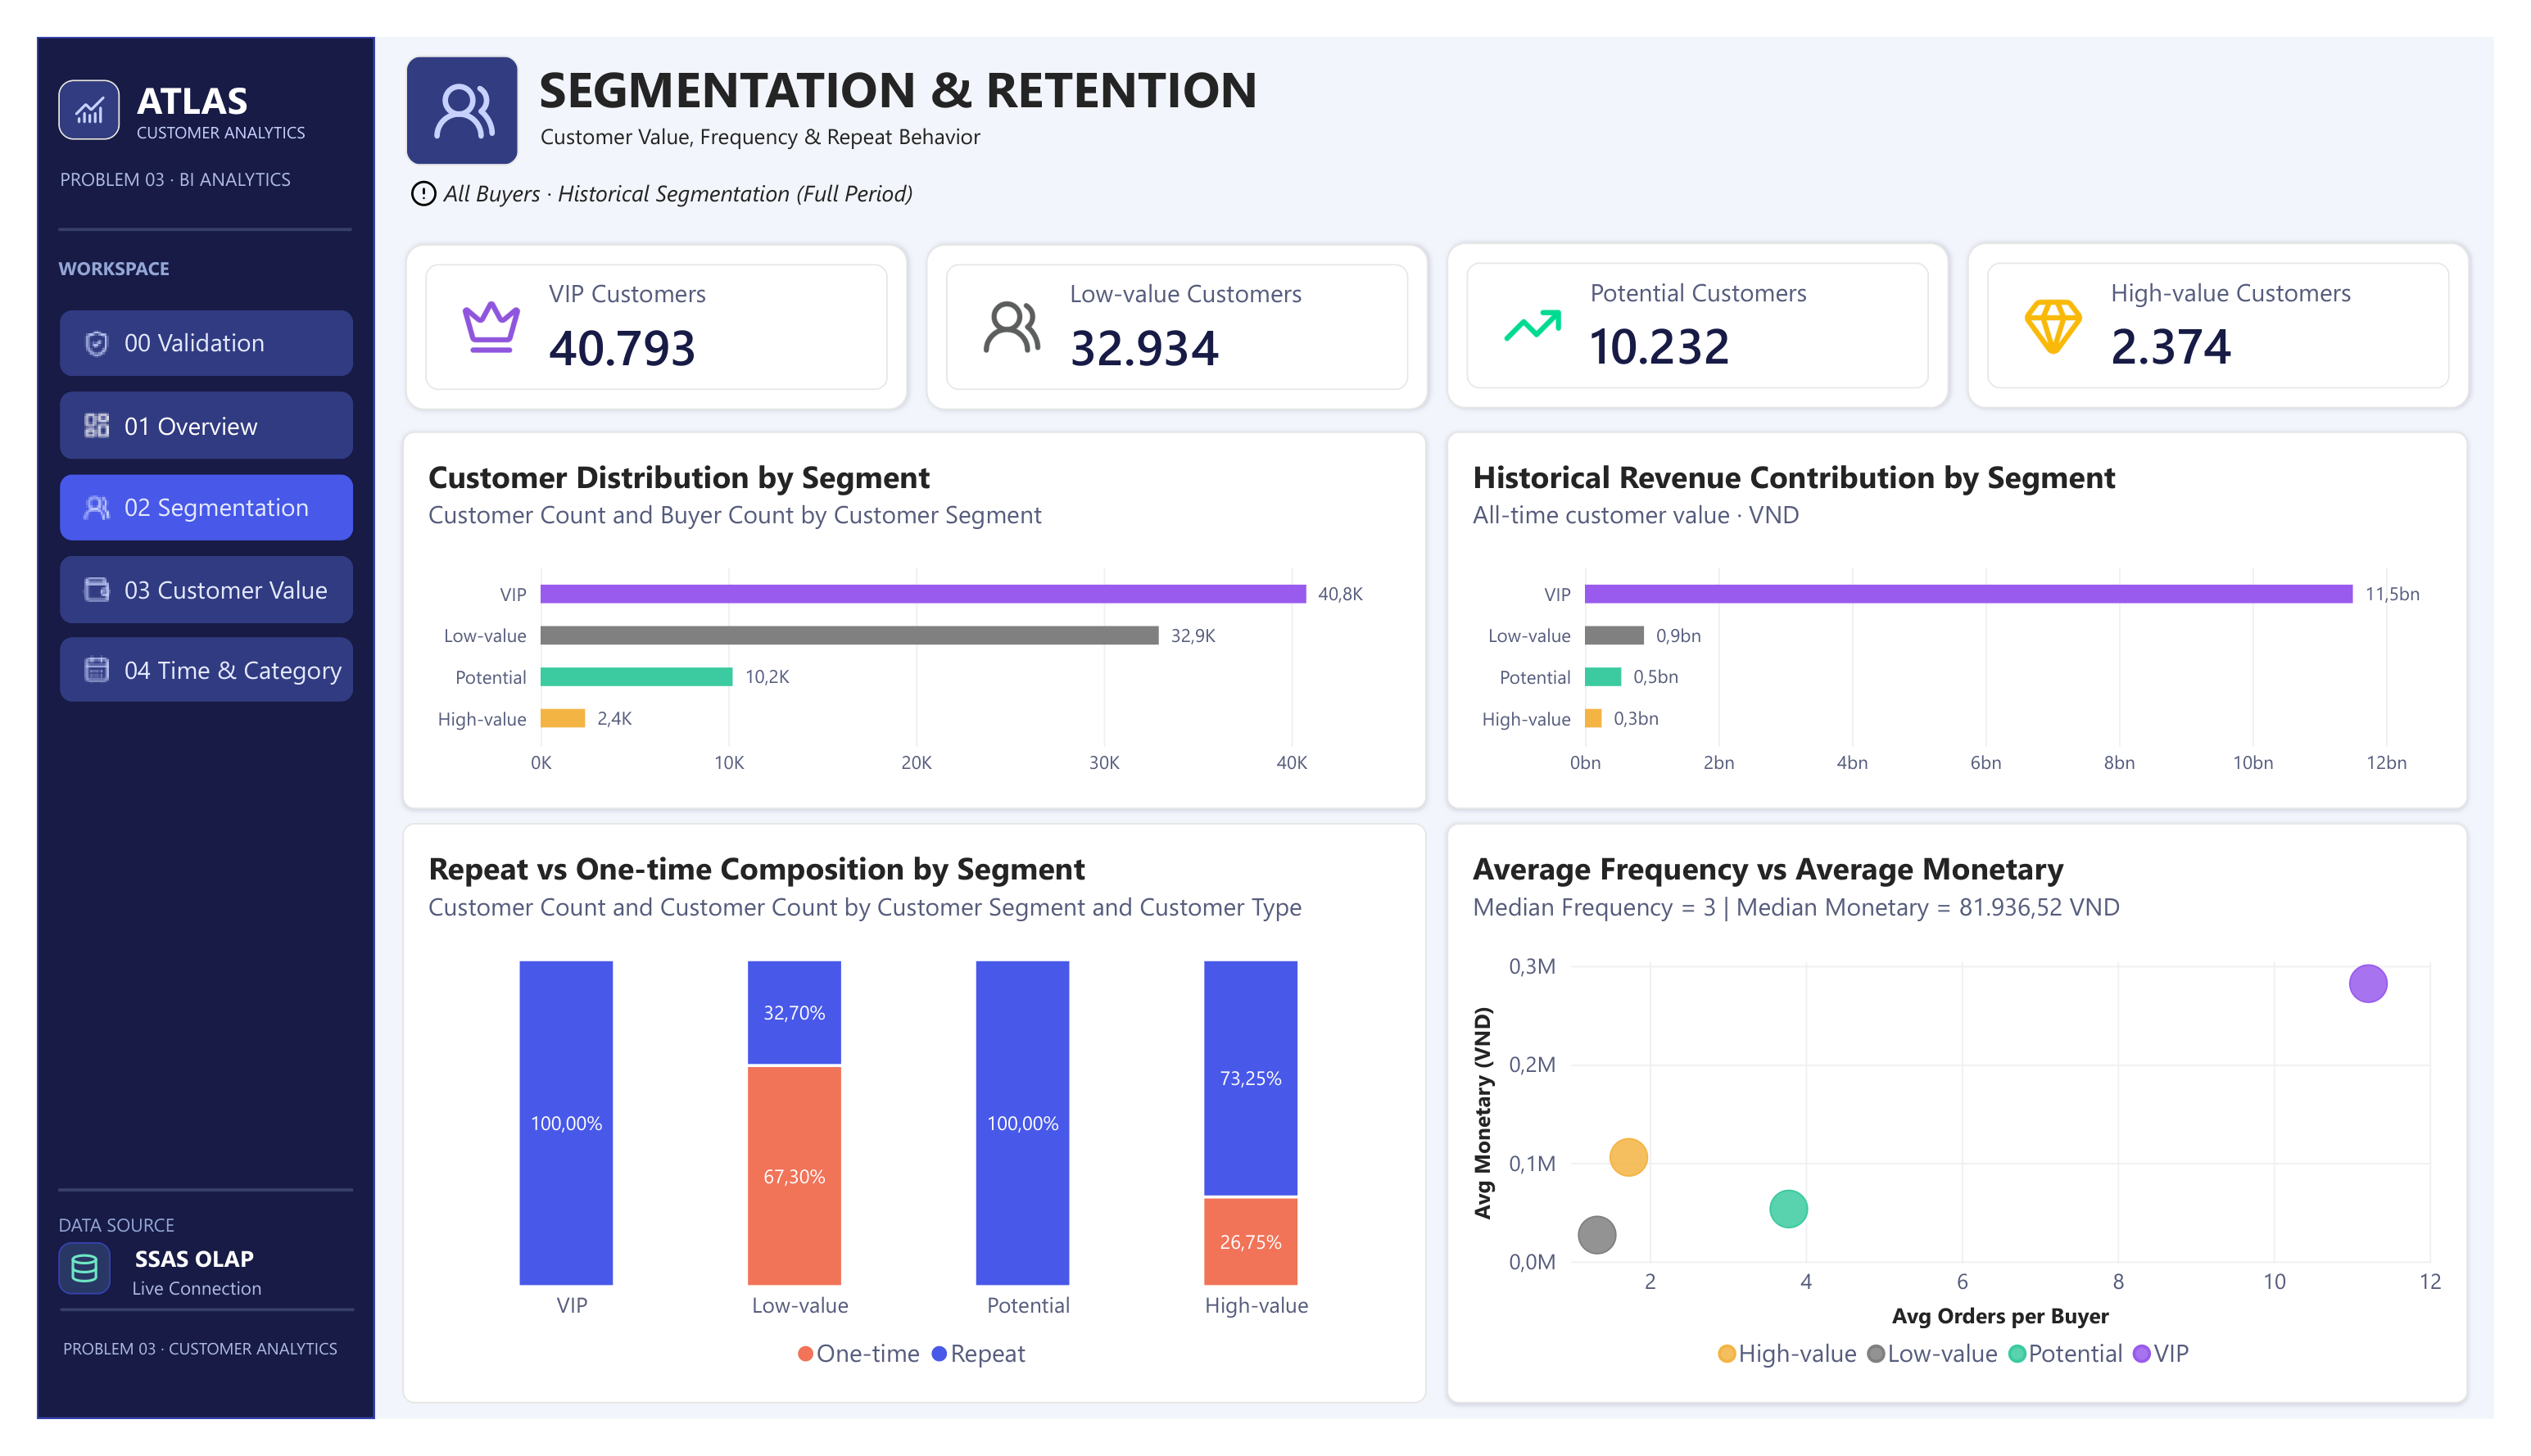

This screenshot's page, from the dashboard's own definition file:
{"tool":"powerbi","page":{"name":"02_Segmentation_Retention","canvas":[1600,900],"ordinal":2},"visuals":[{"type":"shape","box":[0,0,220,900],"z":0,"group":"g1"},{"type":"textbox","box":[326.7,11.5,710,53.3],"z":0},{"type":"image","box":[238.3,93.2,26.7,18.3],"z":0,"group":"g2"},{"type":"textbox","box":[65.5,24,134.3,31.6],"z":1000,"group":"g1"},{"type":"textbox","box":[328,55.2,736,22],"z":1000},{"type":"textbox","box":[265,91.5,500,25],"z":1000,"group":"g2"},{"type":"shape","box":[240,12.2,74,72],"z":2000},{"type":"actionButton","box":[15.1,177.8,190.9,43.6],"z":2000,"group":"g1"},{"type":"image","box":[254.8,26.6,46,43],"z":3000},{"type":"actionButton","box":[14.7,390.9,191.7,42.4],"z":3000,"group":"g1"},{"type":"clusteredBarChart","title":"Customer Distribution by Segment","fields":{"Category":["Customer.Customer Segment"],"Y":["V FACT CUSTOMER ANALYTICS.Customer Count"]},"box":[238.3,256.7,666.7,246.7],"z":4000},{"type":"actionButton","box":[15.1,284.8,190.9,43.6],"z":4000,"group":"g1"},{"type":"clusteredBarChart","title":"Historical Revenue Contribution by Segment","fields":{"Category":["Customer.Customer Segment"],"Y":["V FACT CUSTOMER ANALYTICS.Historical CLV"]},"box":[918.3,256.7,665,246.7],"z":5000},{"type":"actionButton","box":[15.1,338.3,190.9,43.6],"z":5000,"group":"g1"},{"type":"actionButton","box":[15.1,231.3,190.9,43.6],"z":6000,"group":"g1"},{"type":"hundredPercentStackedColumnChart","title":"Repeat vs One-time Composition by Segment","fields":{"Category":["Customer.Customer Segment"],"Series":["Customer.Customer Type"],"Y":["V FACT CUSTOMER ANALYTICS.Customer Count"]},"box":[238.3,511.7,666.7,378.3],"z":6000},{"type":"shape","box":[14.3,27.7,40,39.5],"z":7000,"group":"g1"},{"type":"scatterChart","title":"Average Frequency vs Average Monetary","fields":{"Category":["Customer.Customer Segment"],"Series":["Customer.Customer Segment"],"X":["Measures.Average Frequency"],"Y":["Measures.Average Monetary"]},"box":[918.3,511.7,665,378.3],"z":7000},{"type":"group","id":"g1","title":"Group 1","box":[0,0,220,900],"z":8000},{"type":"image","box":[23.3,36.5,22,21.7],"z":8000,"group":"g1"},{"type":"textbox","box":[64.6,50.8,135,21.2],"z":9000,"group":"g1"},{"type":"group","id":"g2","title":"Group 4","box":[238.3,91.5,526.7,25],"z":9000},{"type":"textbox","box":[14.7,81.7,191.8,22.4],"z":10000,"group":"g1"},{"type":"cardVisual","fields":{"Data":["V FACT CUSTOMER ANALYTICS.Customer Count"]},"box":[240,135,327,108],"z":10000},{"type":"shape","box":[14.3,118.5,190.9,13.5],"z":11000,"group":"g1"},{"type":"cardVisual","fields":{"Data":["V FACT CUSTOMER ANALYTICS.Customer Count"]},"box":[579,135,327,108],"z":11000},{"type":"cardVisual","fields":{"Data":["V FACT CUSTOMER ANALYTICS.Customer Count"]},"box":[918,133.8,327,108],"z":12000},{"type":"textbox","box":[14.3,140.3,186,19.8],"z":12000,"group":"g1"},{"type":"cardVisual","fields":{"Data":["V FACT CUSTOMER ANALYTICS.Customer Count"]},"box":[1257,133.8,327,108],"z":13000},{"type":"shape","box":[14.3,740.8,192,19.8],"z":13000,"group":"g1"},{"type":"textbox","box":[14.3,762.6,170,19.8],"z":14000,"group":"g1"},{"type":"shape","box":[14.3,785.3,34,33.6],"z":15000,"group":"g1"},{"type":"image","box":[21.3,792.2,20,19.8],"z":16000,"group":"g1"},{"type":"textbox","box":[63.9,785.3,120,26.3],"z":17000,"group":"g1"},{"type":"textbox","box":[62,804.5,136.6,18.7],"z":18000,"group":"g1"},{"type":"shape","box":[15,823.1,191.7,11.5],"z":19000,"group":"g1"},{"type":"textbox","box":[16.7,842.9,190,19.8],"z":20000,"group":"g1"}]}

Visuals, with their boxes on the page's 1600x900 design canvas (x1, y1, x2, y2). These are canvas units, not pixel positions in the 2531x1456 screenshot, which may show the page scaled, cropped or inside an application window:
shape: rect(0, 0, 220, 900)
textbox: rect(327, 12, 1037, 65)
image: rect(238, 93, 265, 112)
textbox: rect(66, 24, 200, 56)
textbox: rect(328, 55, 1064, 77)
textbox: rect(265, 92, 765, 116)
shape: rect(240, 12, 314, 84)
actionButton: rect(15, 178, 206, 221)
image: rect(255, 27, 301, 70)
actionButton: rect(15, 391, 206, 433)
"Customer Distribution by Segment" clusteredBarChart: rect(238, 257, 905, 503)
actionButton: rect(15, 285, 206, 328)
"Historical Revenue Contribution by Segment" clusteredBarChart: rect(918, 257, 1583, 503)
actionButton: rect(15, 338, 206, 382)
actionButton: rect(15, 231, 206, 275)
"Repeat vs One-time Composition by Segment" hundredPercentStackedColumnChart: rect(238, 512, 905, 890)
shape: rect(14, 28, 54, 67)
"Average Frequency vs Average Monetary" scatterChart: rect(918, 512, 1583, 890)
"Group 1" group: rect(0, 0, 220, 900)
image: rect(23, 36, 45, 58)
textbox: rect(65, 51, 200, 72)
"Group 4" group: rect(238, 92, 765, 116)
textbox: rect(15, 82, 206, 104)
cardVisual - V FACT CUSTOMER ANALYTICS.Customer Count: rect(240, 135, 567, 243)
shape: rect(14, 118, 205, 132)
cardVisual - V FACT CUSTOMER ANALYTICS.Customer Count: rect(579, 135, 906, 243)
cardVisual - V FACT CUSTOMER ANALYTICS.Customer Count: rect(918, 134, 1245, 242)
textbox: rect(14, 140, 200, 160)
cardVisual - V FACT CUSTOMER ANALYTICS.Customer Count: rect(1257, 134, 1584, 242)
shape: rect(14, 741, 206, 761)
textbox: rect(14, 763, 184, 782)
shape: rect(14, 785, 48, 819)
image: rect(21, 792, 41, 812)
textbox: rect(64, 785, 184, 812)
textbox: rect(62, 804, 199, 823)
shape: rect(15, 823, 207, 835)
textbox: rect(17, 843, 207, 863)
